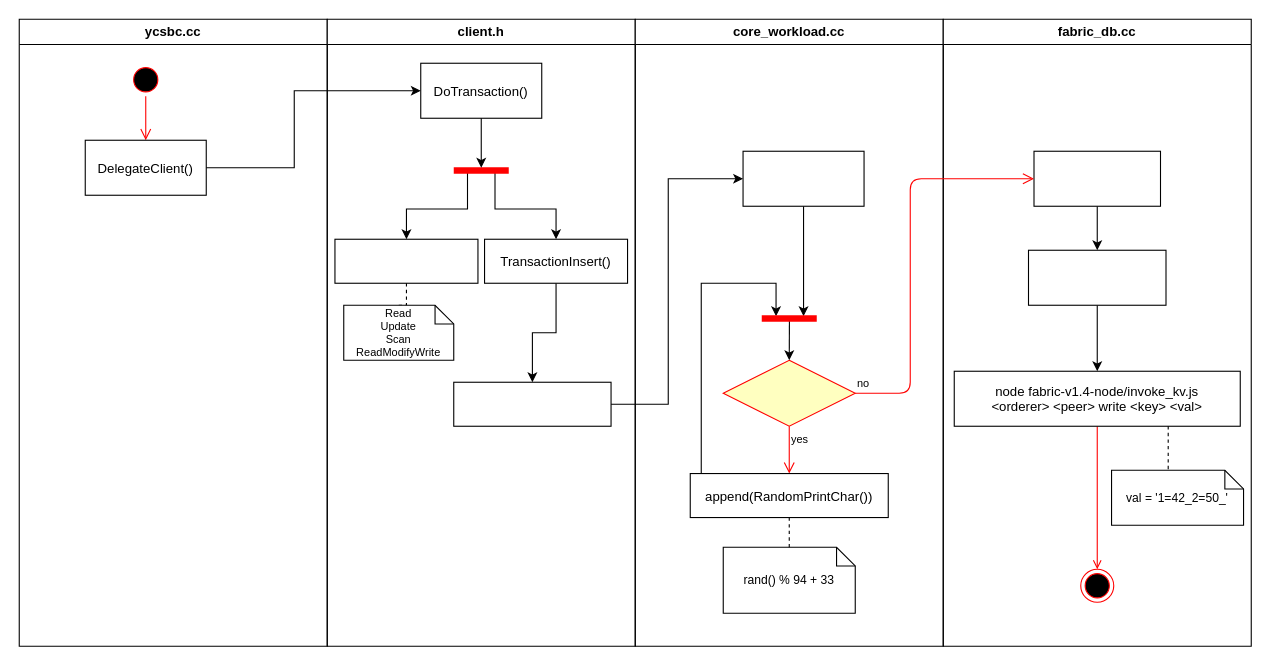
This 1271x666 diagram has some shape labels left out. The centre of each missing label's shape, as x and y in pixels:
Alternative Operation: (406,260)
BuildValues(): (803,178)
i < field_count_: (788,392)
Insert(key,values): (1096,178)
NextSequenceKey(): (532,403)
Update(key,values): (1096,277)
